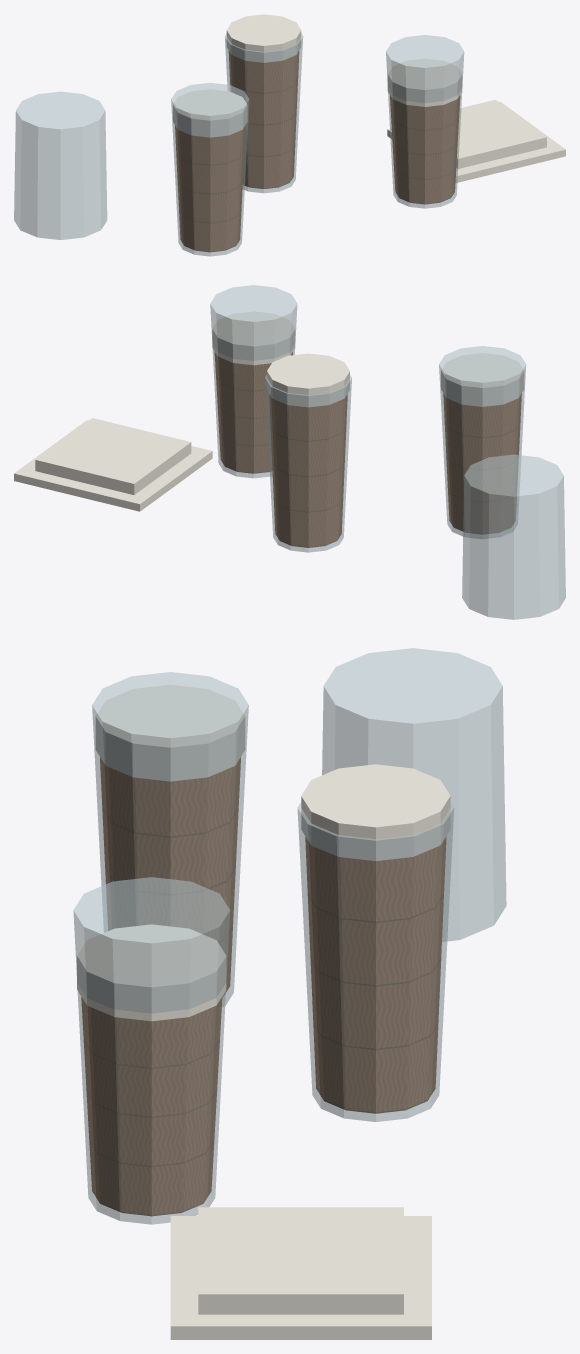
File: beer_glass_set.glb
3 renders of one model, top to bottom at view 1: azimuth 30°, elevation 25°; view 2: azimuth 150°, elevation 25°; view 3: azimuth 270°, elevation 25°, orthographic. The views are drawn at different scales.
Parts seen in each view (by area): view 1: beer-glass-set-glass, beer-glass-set-timber, beer-glass-set-cream; view 2: beer-glass-set-glass, beer-glass-set-timber, beer-glass-set-cream; view 3: beer-glass-set-glass, beer-glass-set-timber, beer-glass-set-cream.
Boxes of the visible parts, x1,y1,x2,y2 form: beer-glass-set-glass: (14,34,464,256); beer-glass-set-timber: (175,51,460,252); beer-glass-set-cream: (173,14,565,182); beer-glass-set-glass: (210,285,565,619); beer-glass-set-timber: (214,352,521,547); beer-glass-set-cream: (14,311,524,511); beer-glass-set-glass: (73,648,506,1224); beer-glass-set-timber: (81,757,446,1216); beer-glass-set-cream: (77,684,450,1339).
Size of the model in its own units: 0.6 by 0.177 by 0.232.
